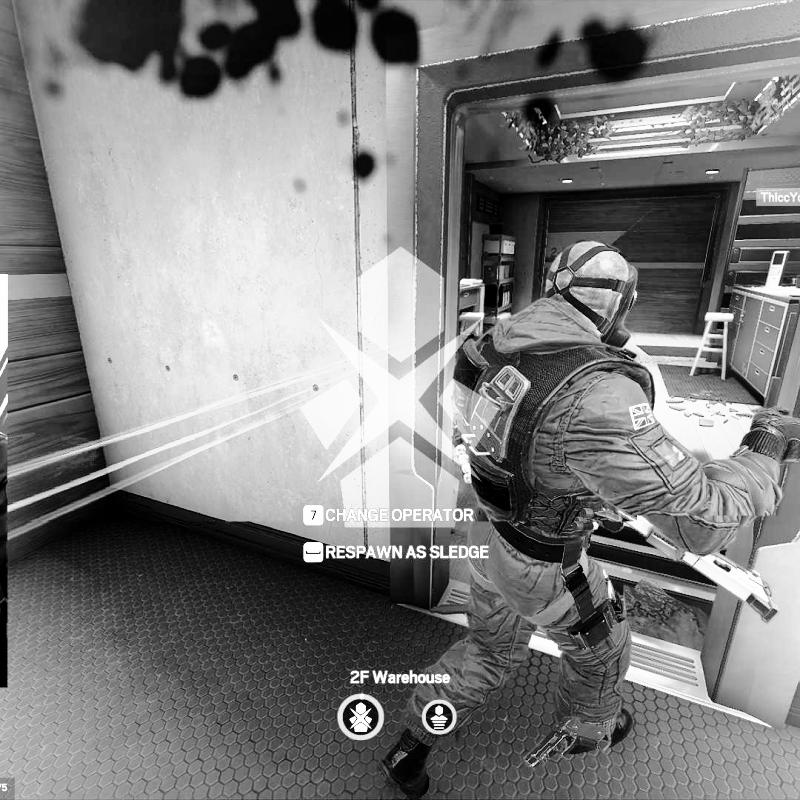Character: (374, 232, 800, 800)
Head: (539, 239, 648, 340)
